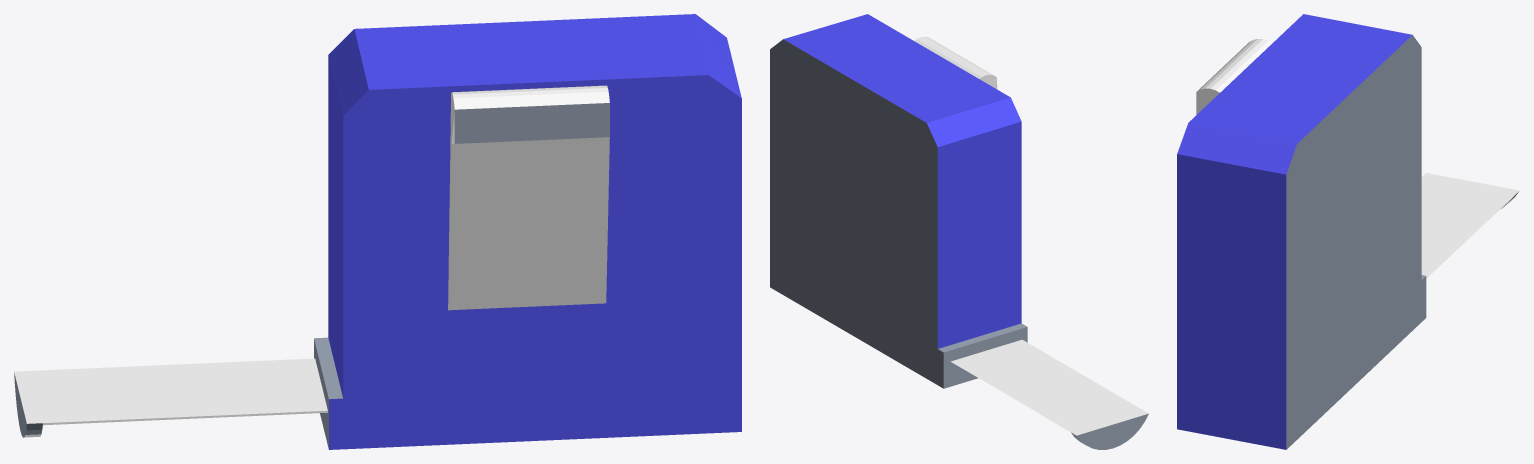
Rendered from outil 11.FBX.
3 renders of one model, left to right at view 1: azimuth 30°, elevation 25°; view 2: azimuth 150°, elevation 25°; view 3: azimuth 270°, elevation 25°, orthographic. The views are drawn at different scales.
Parts seen in each view (by area): view 1: metre; view 2: metre; view 3: metre.
Part boxes in pixels (bbox=[...]): metre: bbox=[14, 14, 741, 449]; metre: bbox=[770, 14, 1148, 449]; metre: bbox=[1177, 14, 1519, 449].
Size of the model in its own units: 0.8465 by 0.471 by 0.4945.
